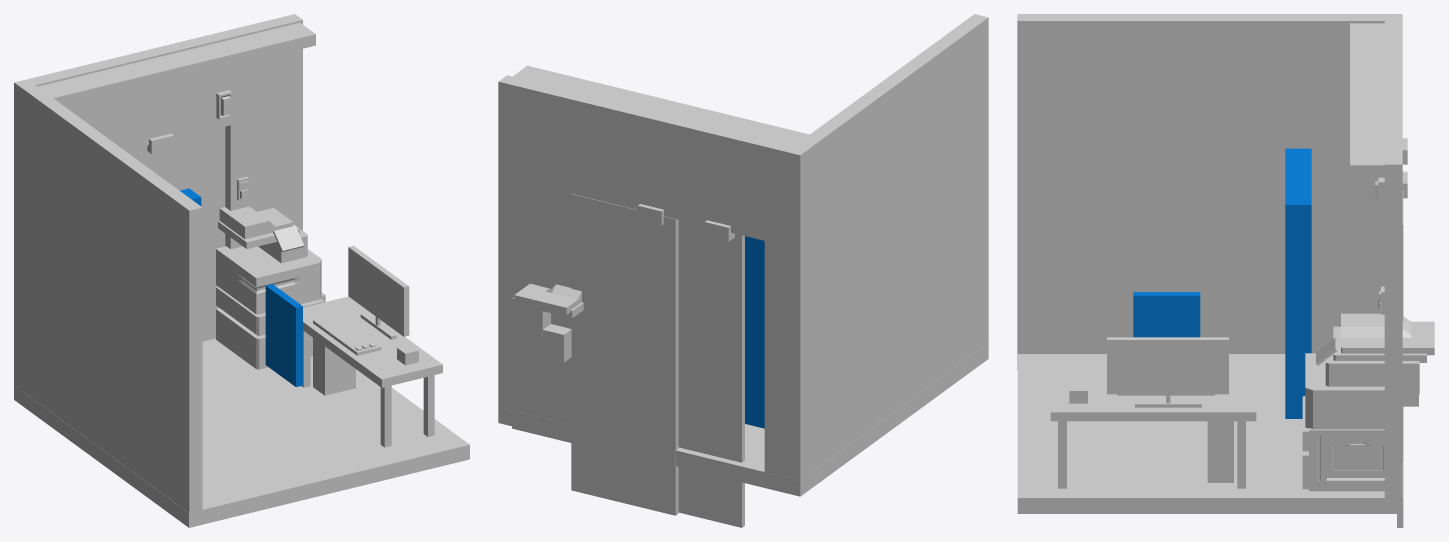
File: desk.glb
3 renders of one model, left to right at view 1: azimuth 30°, elevation 25°; view 2: azimuth 150°, elevation 25°; view 3: azimuth 270°, elevation 25°, orthographic. The views are drawn at different scales.
Visible parts, largest first — view 1: 큐브; view 2: 큐브; view 3: 큐브.
Boxes of the visible parts, <box> form: 큐브: <box>14,14,469,527</box>; 큐브: <box>498,14,988,527</box>; 큐브: <box>1017,14,1434,527</box>.
Size of the model in its own units: 0.5 by 0.6179 by 0.585.
